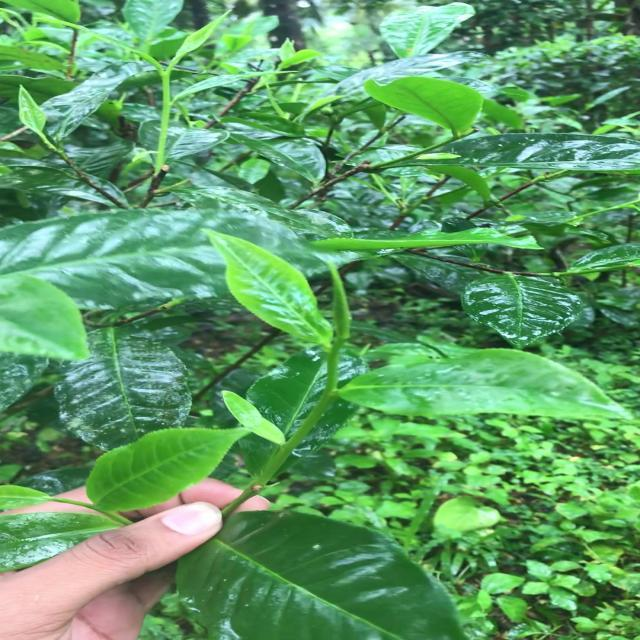Stem: (324, 392, 336, 402)
